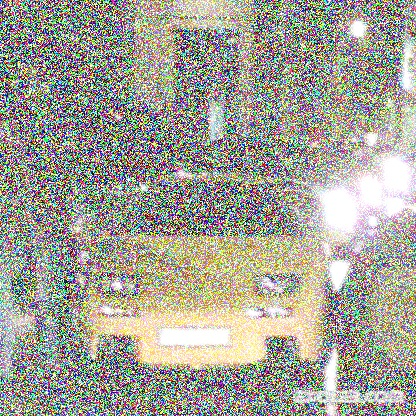Vehicle: (79, 170, 333, 380)
